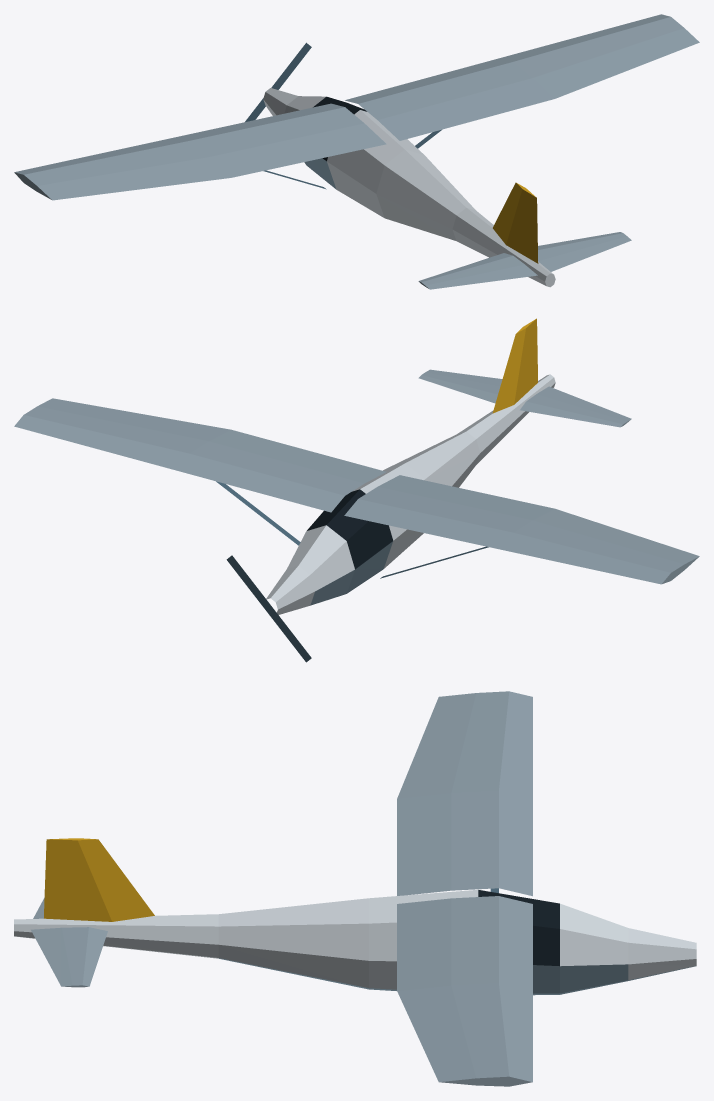
The picture shows the model from 3 angles, top to bottom: view 1: azimuth 30°, elevation 25°; view 2: azimuth 150°, elevation 25°; view 3: azimuth 270°, elevation 25°; orthographic projection. The views are drawn at different scales.
Visible parts, largest first — view 1: lod0; view 2: lod0; view 3: lod0.
Boxes of the visible parts, bbox=[...] form: lod0: bbox=[14, 14, 699, 289]; lod0: bbox=[14, 318, 699, 662]; lod0: bbox=[14, 691, 696, 1086].
Size of what is drawn, in the model's own units: 1.33 by 0.273 by 1.
